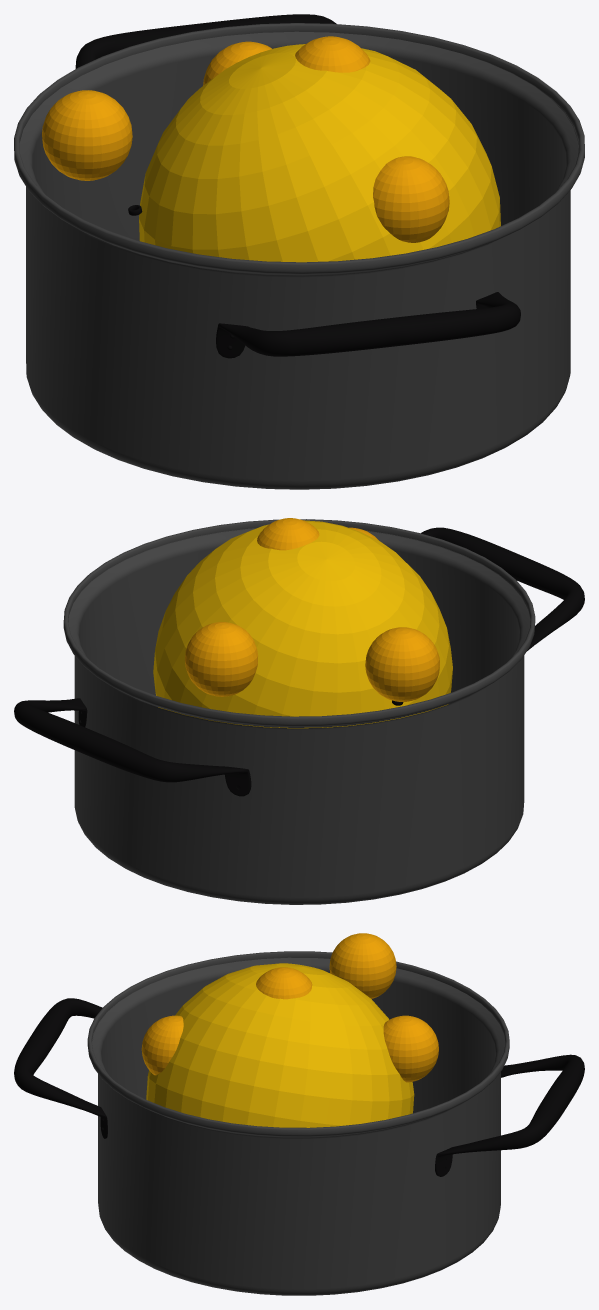
The model's file is potwithsoupofonions.fbx.
3 renders of one model, top to bottom at view 1: azimuth 30°, elevation 25°; view 2: azimuth 150°, elevation 25°; view 3: azimuth 270°, elevation 25°, orthographic. The views are drawn at different scales.
Visible parts, largest first — view 1: Pot, Sphere, PotInside, PotHandleRight, Sphere.001, Sphere.005, PotHandleLeft, Sphere.003, Sphere.004; view 2: Pot, Sphere, PotInside, PotHandleLeft, Sphere.001, Sphere.004, PotHandleRight, Sphere.003; view 3: Pot, Sphere, PotInside, PotHandleLeft, PotHandleRight, Sphere.001, Sphere.004, Sphere.005, Sphere.003.
Part boxes in pixels (x1,y1,x2,y2): Pot: (26,53,578,489); Sphere: (139,44,500,262); PotInside: (14,23,584,275); PotHandleRight: (216,292,520,358); Sphere.001: (42,90,132,180); Sphere.005: (373,156,449,242); PotHandleLeft: (75,14,336,68); Sphere.003: (295,36,370,72); Sphere.004: (203,41,271,85); Pot: (69,528,527,904); Sphere: (153,520,452,728); PotInside: (63,519,535,727); PotHandleLeft: (14,698,251,796); Sphere.001: (365,627,439,701); Sphere.004: (184,622,257,696); PotHandleRight: (421,527,584,650); Sphere.003: (257,518,319,550); Pot: (92,977,500,1295); Sphere: (146,963,414,1127); PotInside: (87,951,509,1137); PotHandleLeft: (435,1054,584,1176); PotHandleRight: (14,998,107,1138); Sphere.001: (329,933,396,998); Sphere.004: (383,1015,438,1082); Sphere.005: (141,1015,183,1075); Sphere.003: (256,967,312,999).
Bounding box in the file's own units: 31.41 × 21.37 × 42.53.
